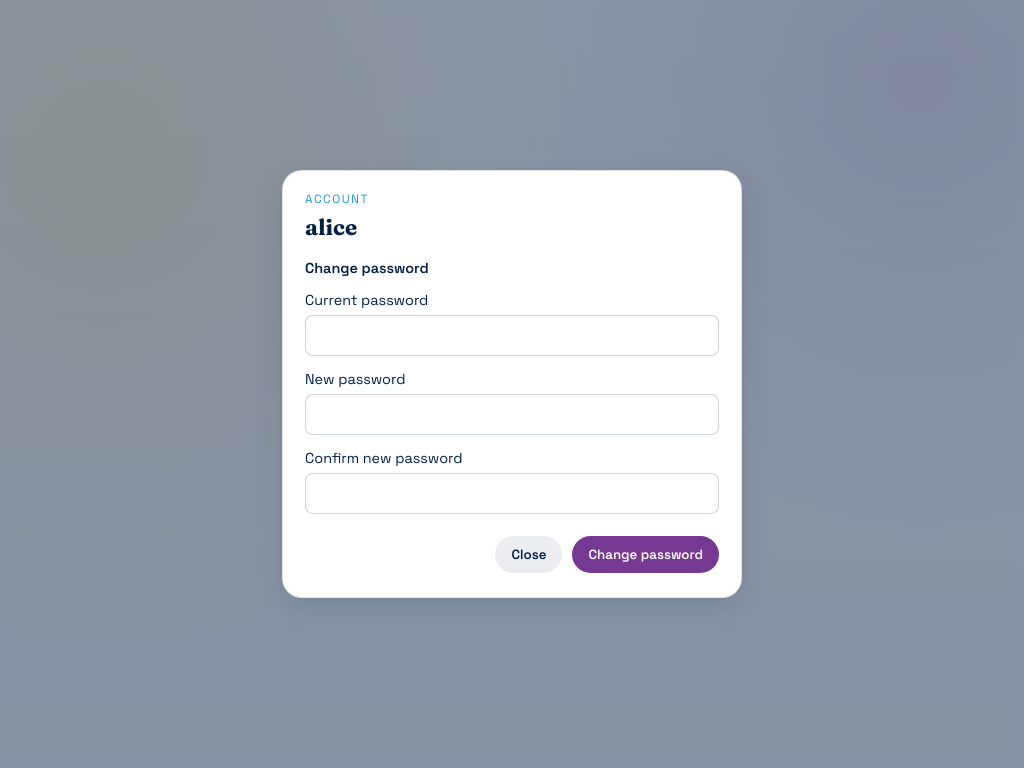
it: UserProfileModal › shows error when new password is too short
The width and height of the screenshot is (1024, 768).
Type "oldpass" into the password field labelled "Current password". click: (512, 336)
box: [305,315,719,356]
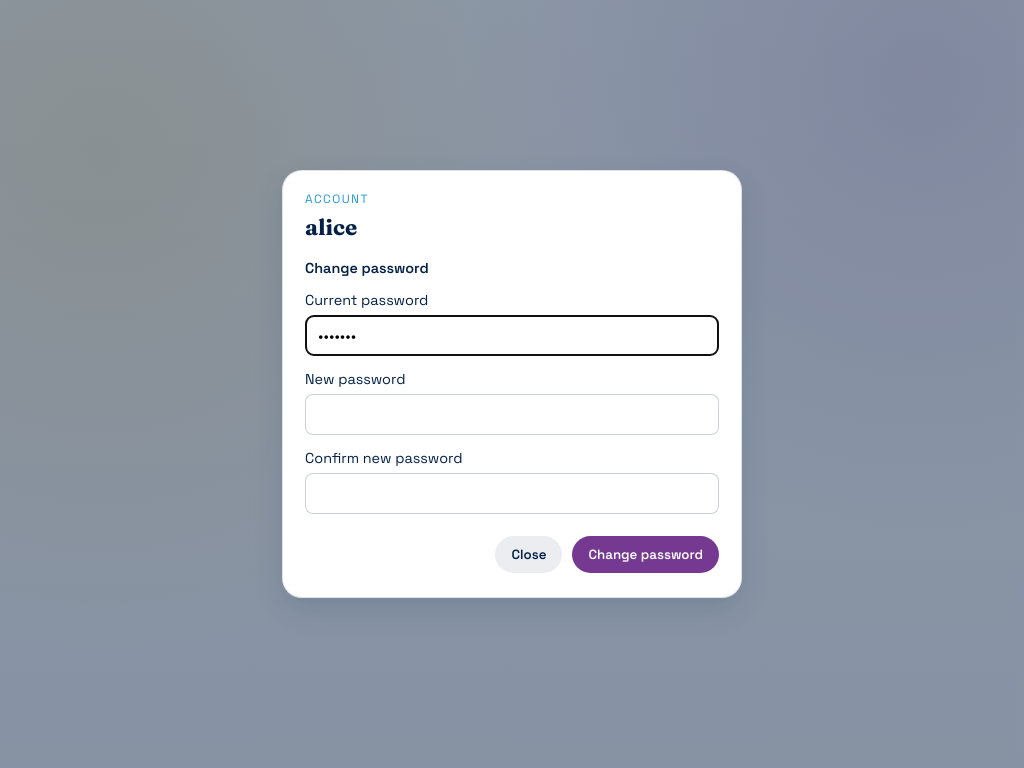
Type "abc" into the password field labelled "New password". click: (512, 414)
box: [305,394,719,435]
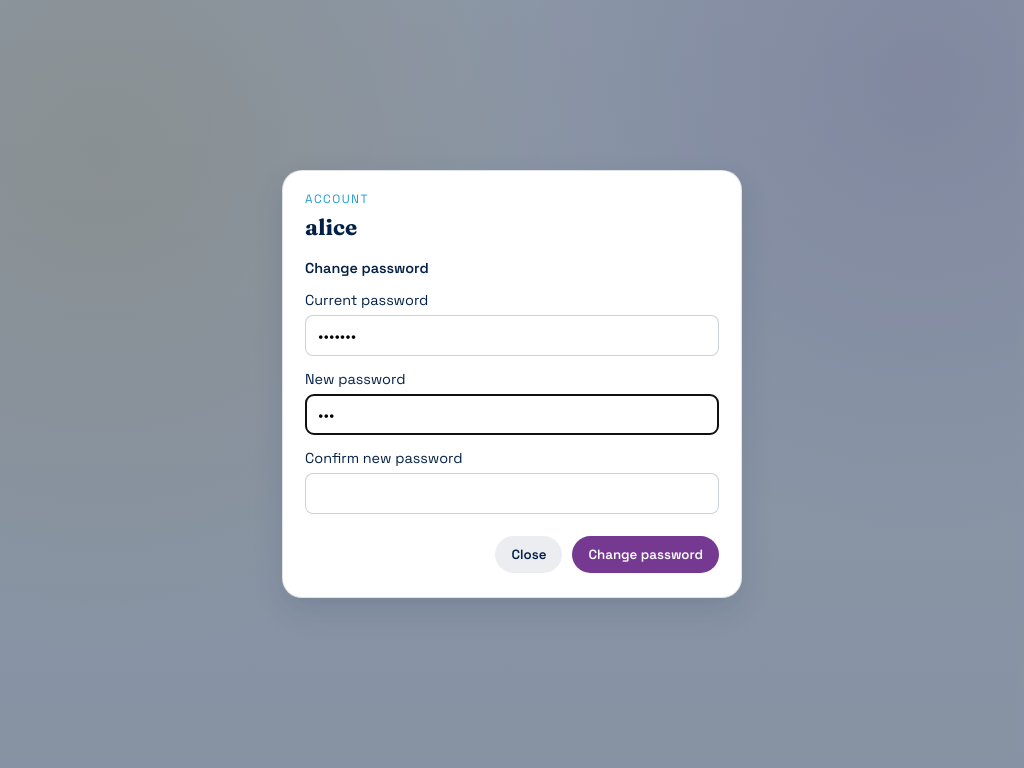
Type "abc" into the password field labelled "Confirm new password". click: (512, 494)
box: [305,473,719,514]
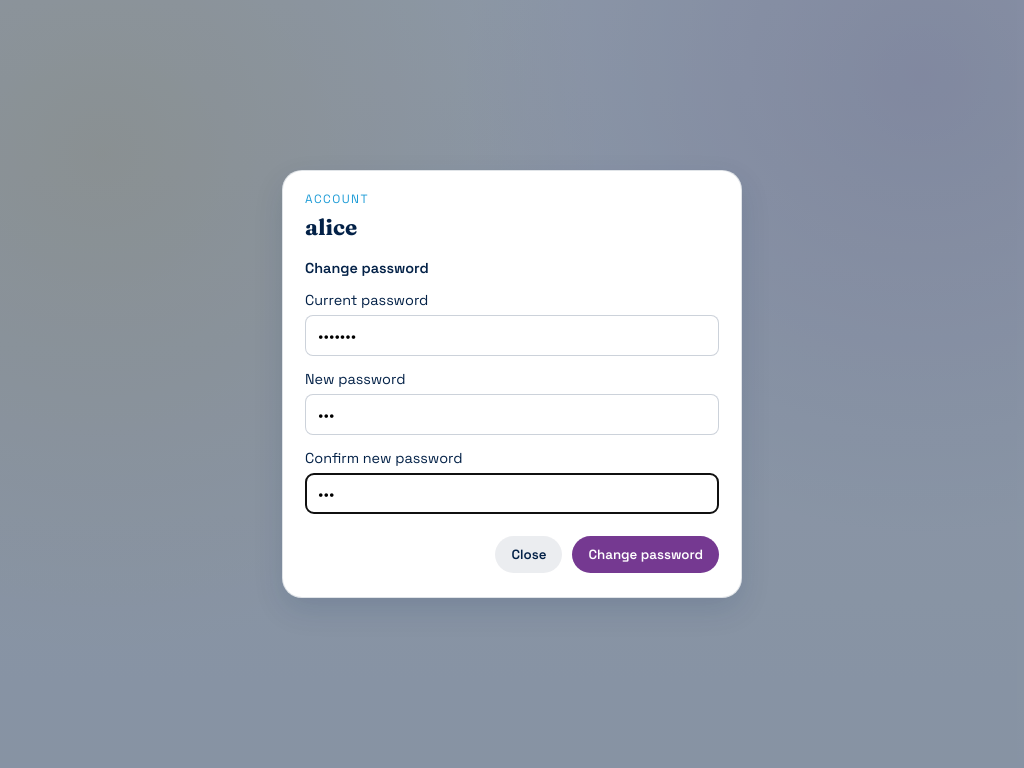
Click the button "Change password". click: (646, 554)
box: [572,536,719,573]
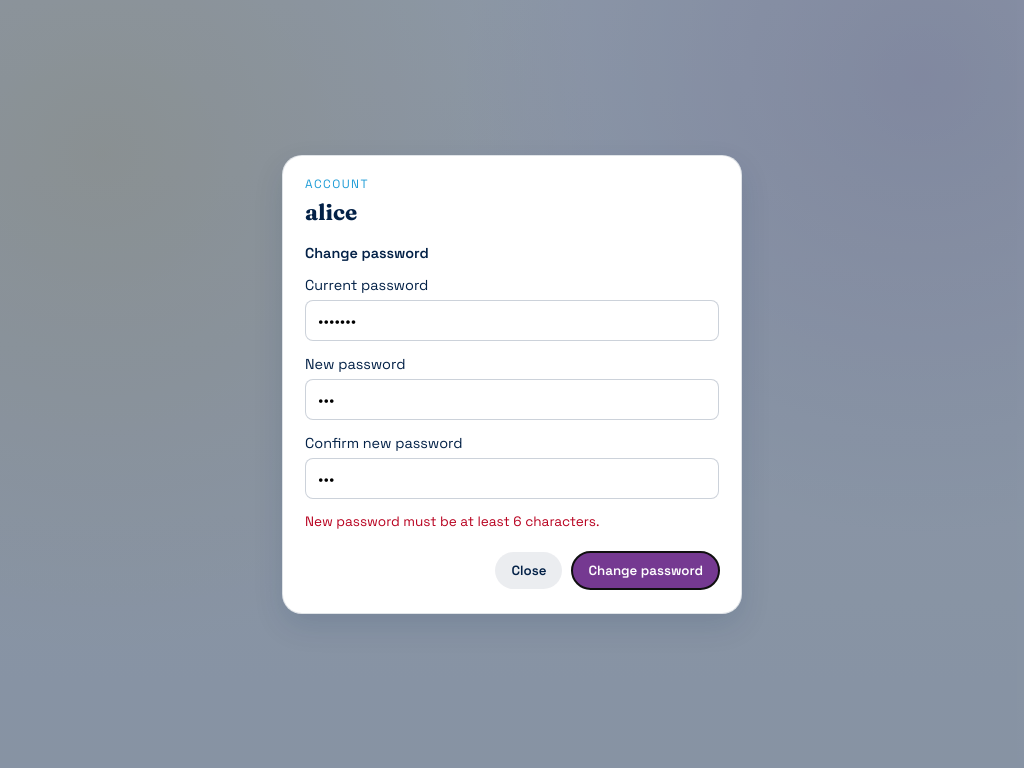
Result: the text "New password must be at least 6 characters." is shown at [305,512,600,530]
